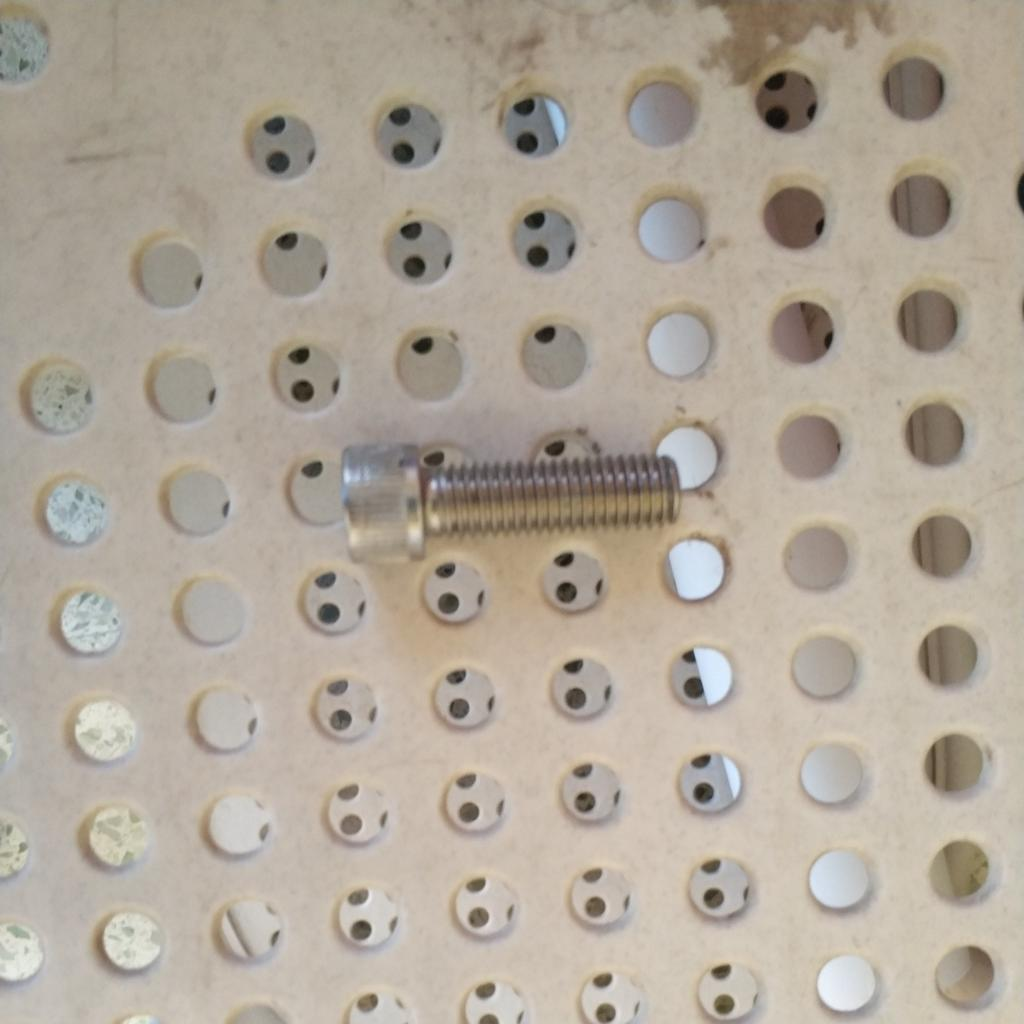screwtype1silver: (328, 433, 685, 574)
